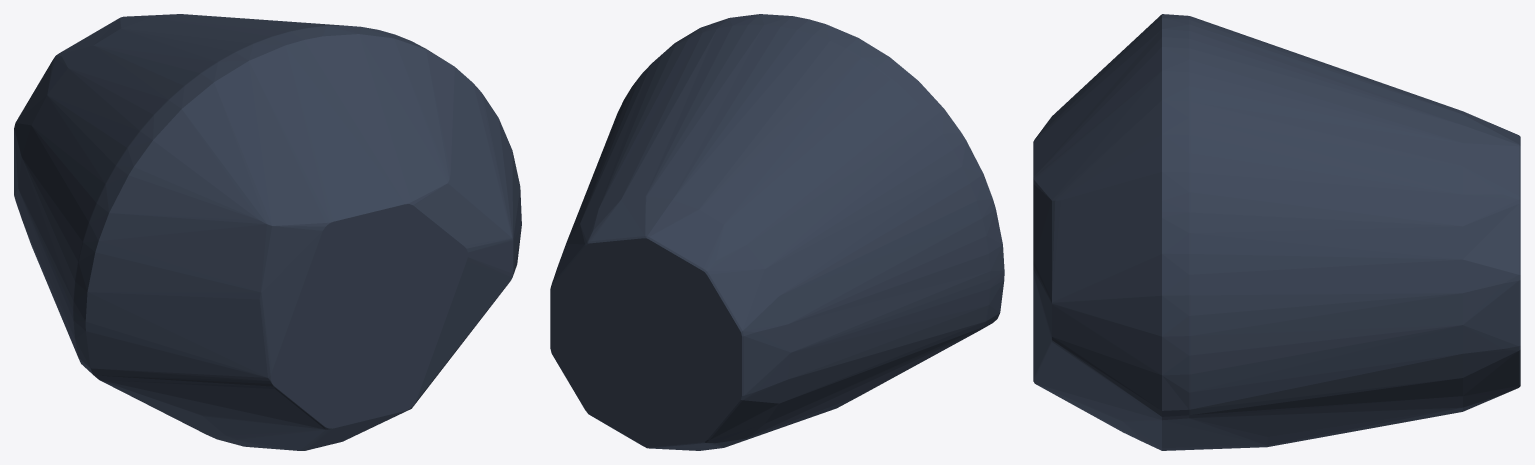
File: wheel_motor.dae
3 renders of one model, left to right at view 1: azimuth 30°, elevation 25°; view 2: azimuth 150°, elevation 25°; view 3: azimuth 270°, elevation 25°, orthographic. The views are drawn at different scales.
Visible parts, largest first — view 1: right_front_wheel_mount_link; view 2: right_front_wheel_mount_link; view 3: right_front_wheel_mount_link.
Boxes of the visible parts, x1,y1,x2,y2 form: right_front_wheel_mount_link: [14, 14, 521, 450]; right_front_wheel_mount_link: [550, 14, 1004, 450]; right_front_wheel_mount_link: [1033, 14, 1520, 450].
Bounding box in the file's own units: 0.2963 × 0.2916 × 0.2619.
